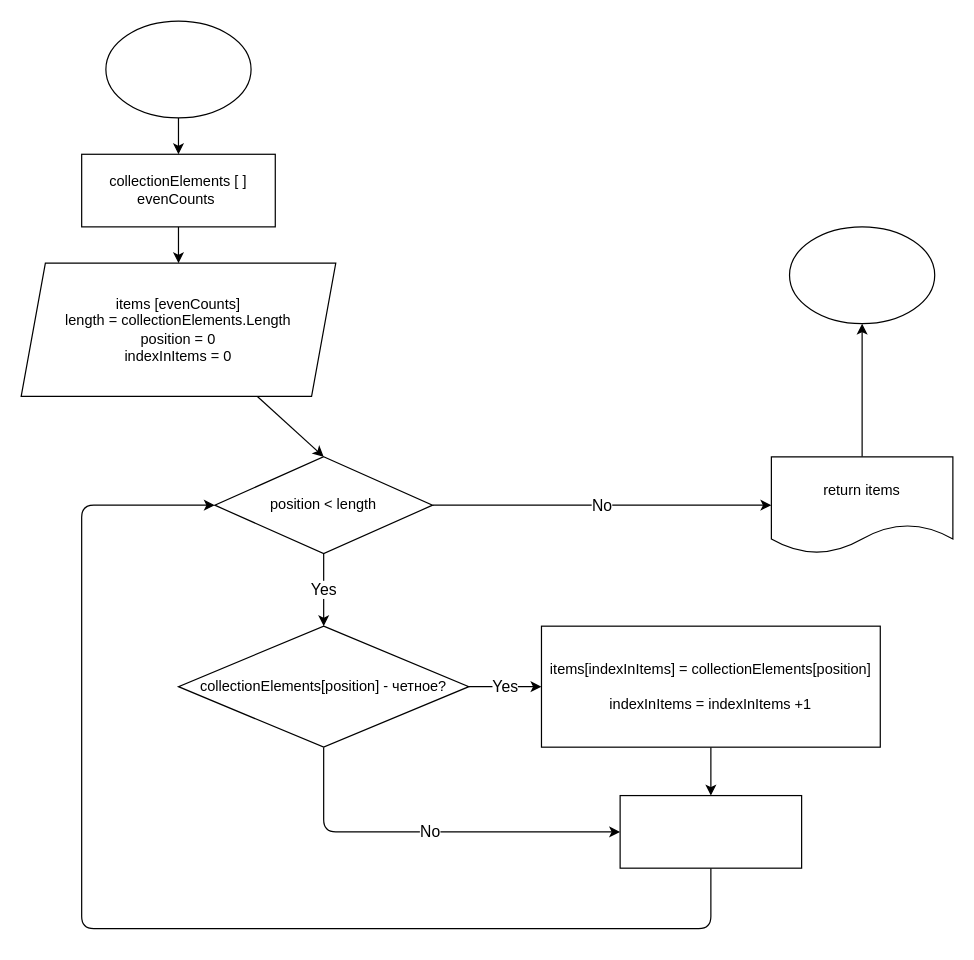
This 974x960 diagram has some shape labels left out. Each missing label, with the centre of its shape:
End Method: [861,275]
position = position + 1: [710,831]
Start Method Solution: [178,69]
